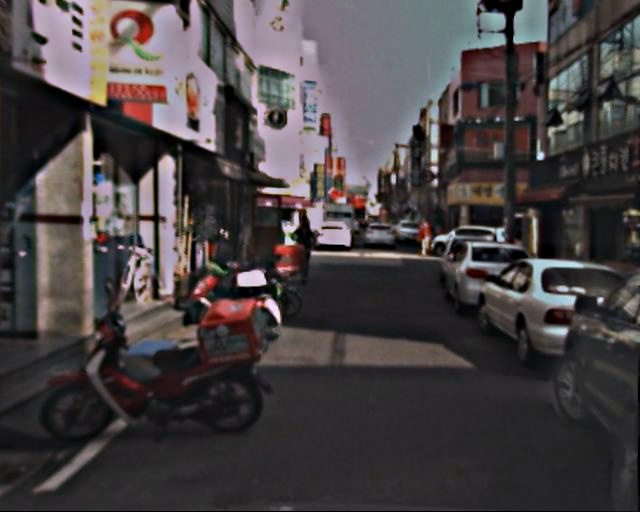person: (289, 215, 318, 286), (417, 220, 435, 258)
